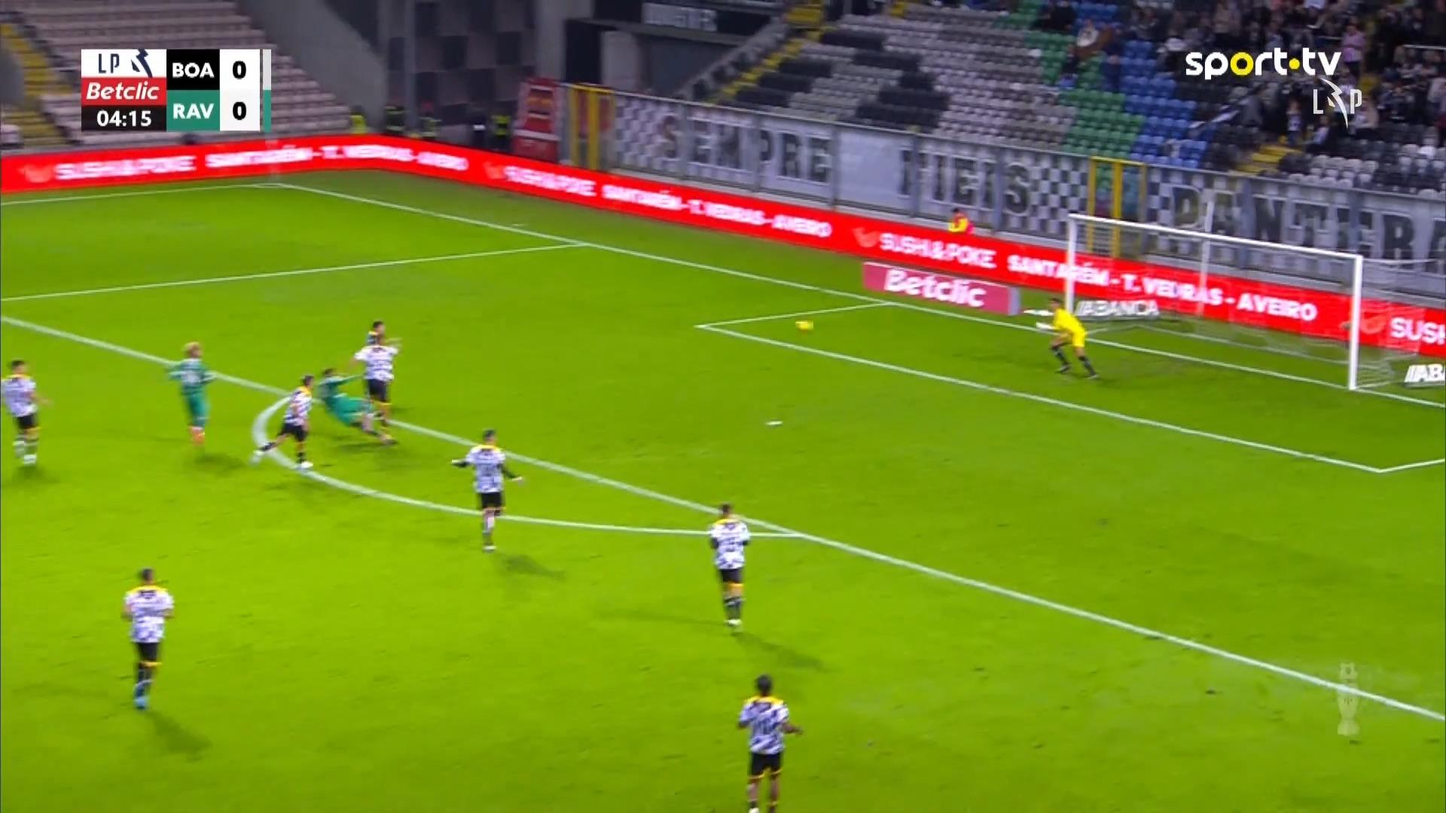ball: (795, 319, 813, 331)
goalkeeper: (1035, 296, 1100, 379)
player: (736, 673, 804, 811), (450, 428, 523, 552), (120, 566, 175, 710), (316, 366, 398, 446), (249, 373, 316, 470), (706, 501, 751, 628), (1, 358, 50, 467), (165, 340, 215, 446), (352, 321, 401, 429)
